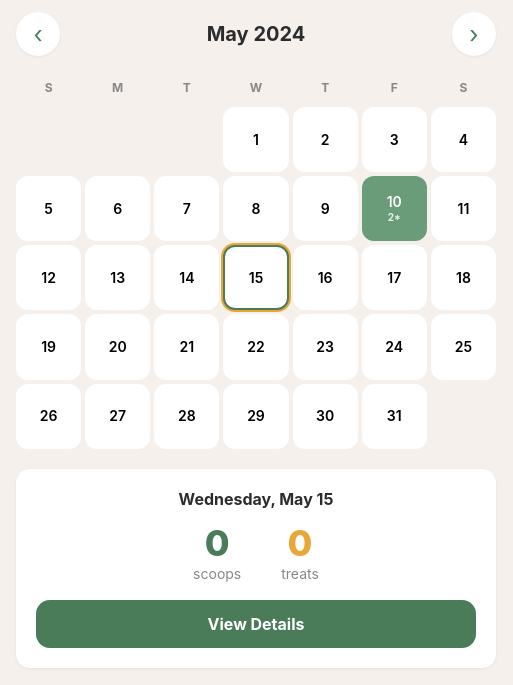
Calendar › selecting a day updates the summary card
Expected: the heading "May 2024" is shown, [207, 22, 305, 46]
What coordinates should you click on to do the following:
click the button "10 2*"
I would click on:
 (394, 209)
Its box is [362, 176, 427, 241].
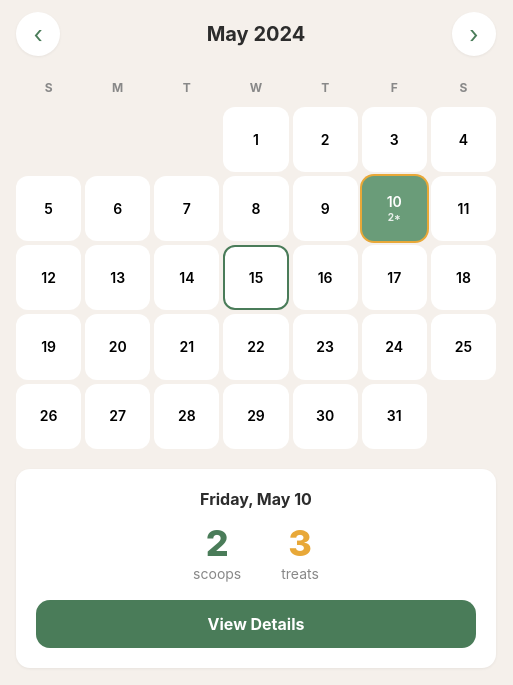
Expected: the text "2" below "Friday, May 10" is shown, [206, 521, 229, 565]
Now the text "3" below "Friday, May 10" is shown, box [288, 521, 312, 565]
Now the heading "Friday, May 10" is shown, box [200, 489, 312, 509]
